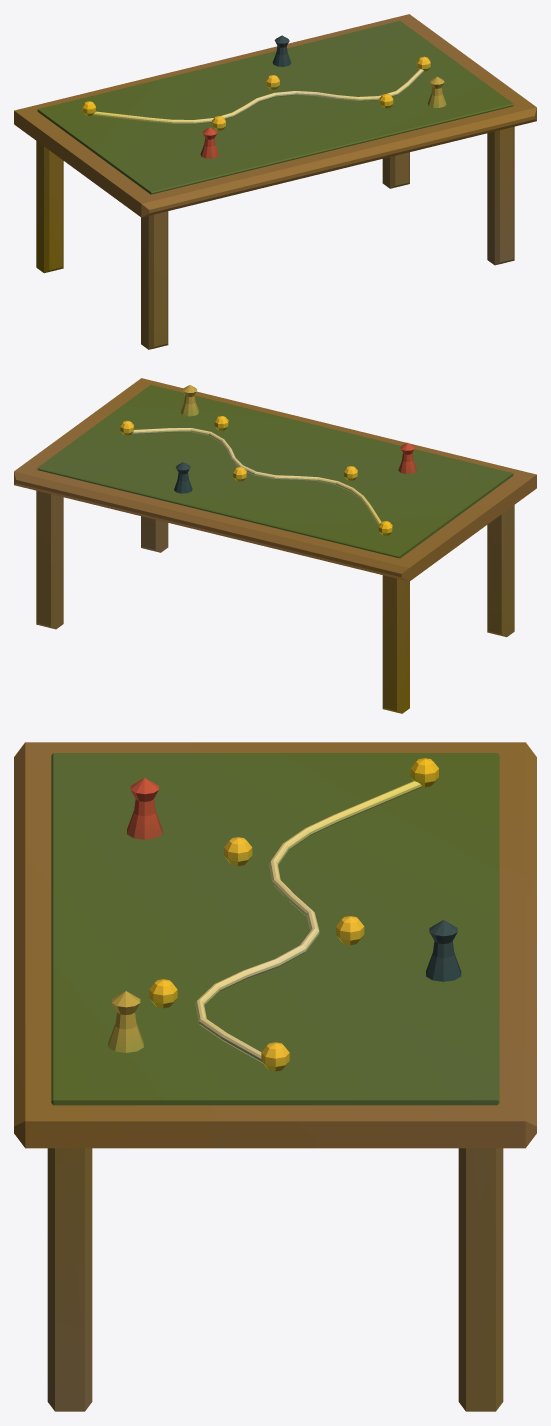
The model's file is GS_MissionTable.glb.
3 views of the same model, one above another, from view 1: azimuth 30°, elevation 25°; view 2: azimuth 150°, elevation 25°; view 3: azimuth 270°, elevation 25° (orthographic). The views are drawn at different scales.
Parts seen in each view (by area): view 1: GS_MissionTable; view 2: GS_MissionTable; view 3: GS_MissionTable.
Boxes of the visible parts, x1,y1,x2,y2 form: GS_MissionTable: (14,14,536,349); GS_MissionTable: (14,378,536,713); GS_MissionTable: (14,742,536,1411).
Bounding box in the file's own units: 2.4 × 1.08 × 1.4.
